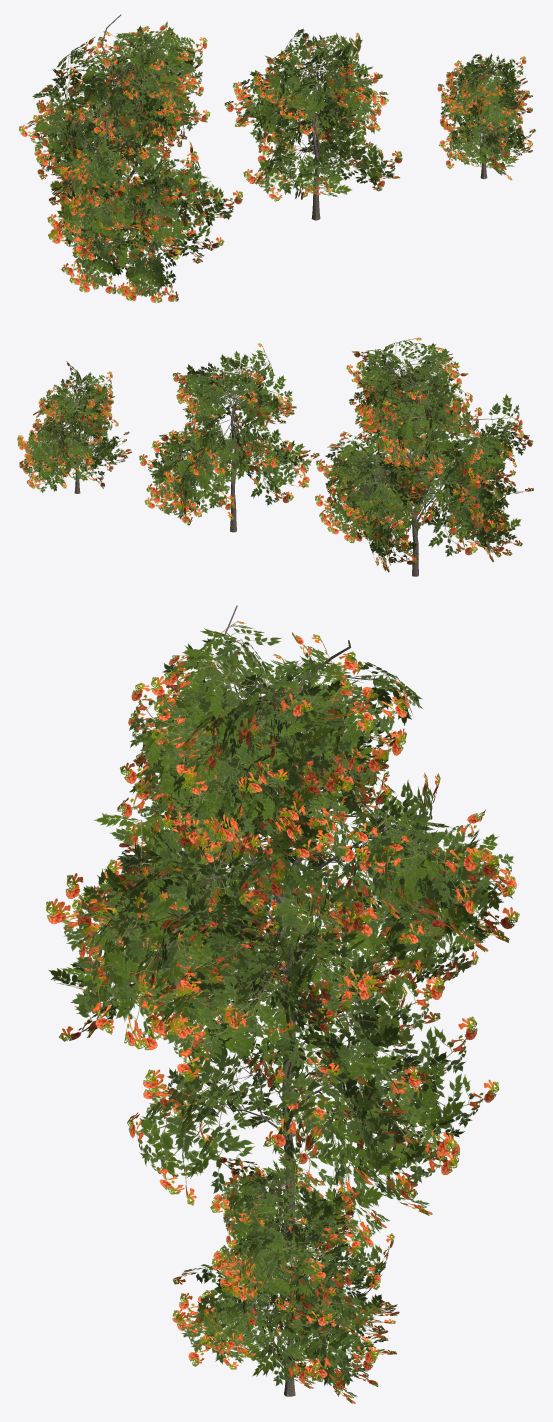
The picture shows the model from 3 angles, top to bottom: view 1: azimuth 30°, elevation 25°; view 2: azimuth 150°, elevation 25°; view 3: azimuth 270°, elevation 25°; orthographic projection. The views are drawn at different scales.
Parts seen in each view (by area): view 1: Chinese_Trumpet_Vine_1, Chinese_Trumpet_Vine_2, Chinese_Trumpet_Vine_3; view 2: Chinese_Trumpet_Vine_1, Chinese_Trumpet_Vine_2, Chinese_Trumpet_Vine_3; view 3: Chinese_Trumpet_Vine_1, Chinese_Trumpet_Vine_2, Chinese_Trumpet_Vine_3.
Part boxes in pixels (x1,y1,x2,y2): Chinese_Trumpet_Vine_1: (19,14,242,302); Chinese_Trumpet_Vine_2: (224,28,402,220); Chinese_Trumpet_Vine_3: (437,53,535,180); Chinese_Trumpet_Vine_1: (315,337,533,576); Chinese_Trumpet_Vine_2: (139,343,319,532); Chinese_Trumpet_Vine_3: (17,361,132,493); Chinese_Trumpet_Vine_1: (46,605,519,1066); Chinese_Trumpet_Vine_2: (127,870,499,1247); Chinese_Trumpet_Vine_3: (172,1144,399,1403).
Bounding box in the file's own units: 9.23 × 4.04 × 4.17.
4 materials, 4 textured.
